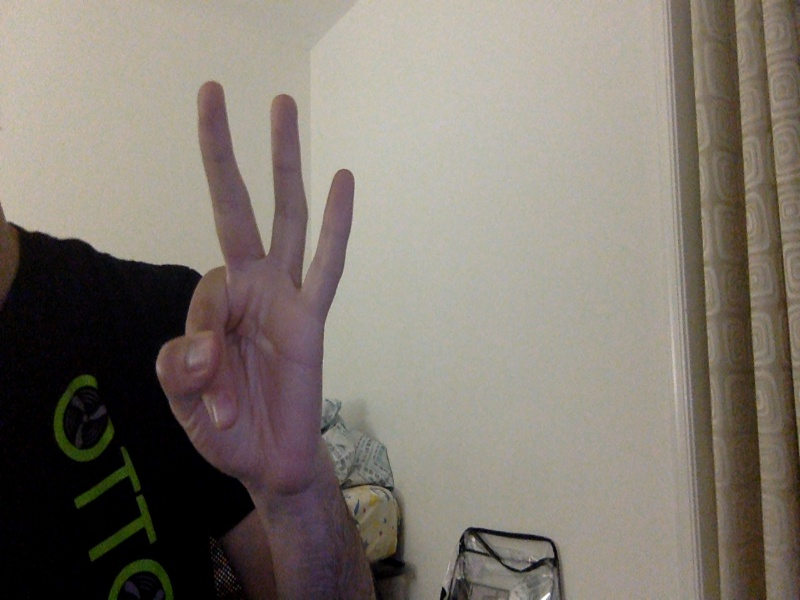3-hand: (156, 82, 359, 491)
